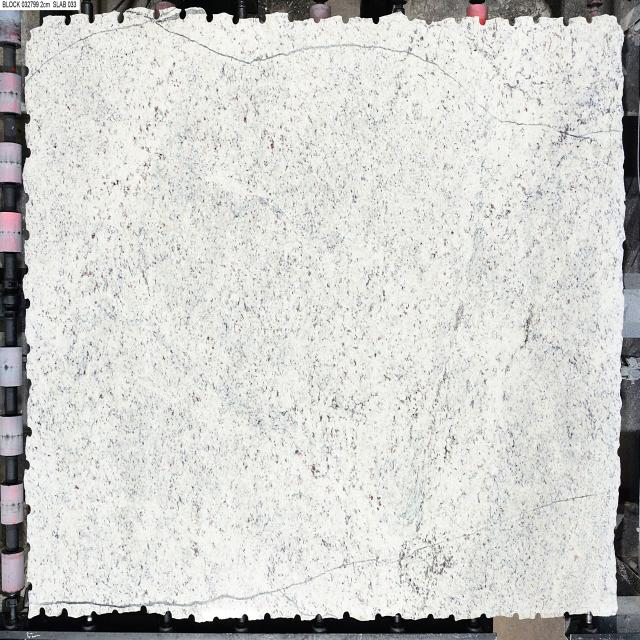chapa: (25, 15, 624, 620)
veio: (475, 13, 492, 32), (174, 3, 190, 22), (22, 291, 34, 315), (228, 10, 243, 29), (84, 10, 99, 27), (22, 421, 35, 440), (503, 12, 517, 29), (149, 3, 162, 21), (22, 62, 33, 83), (113, 10, 128, 25), (204, 7, 216, 25), (37, 604, 49, 622), (22, 455, 32, 476), (21, 143, 33, 160), (25, 578, 36, 596), (59, 605, 70, 623), (138, 604, 150, 619), (292, 610, 304, 625), (23, 107, 33, 124), (260, 610, 274, 622), (62, 12, 71, 29)
